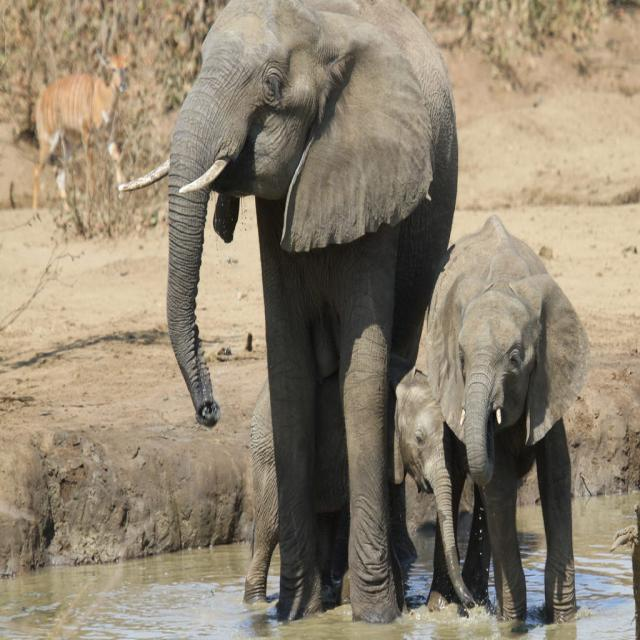elephant: (118, 0, 459, 624), (432, 217, 583, 627), (246, 366, 478, 612)
